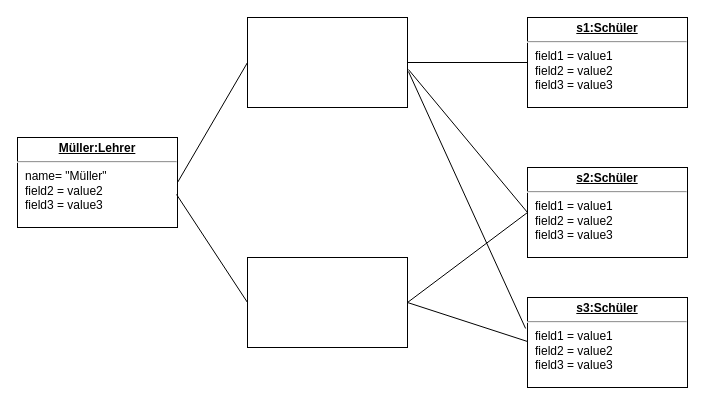
This 705x405 diagram has some shape labels left out. The box of each missing label's shape, as (x1, y1, x2, y2) in pixels:
IT:Fach name= "Mathe" field2 = value2 field3 = value3: (246, 256, 408, 348)
Mathe:Fach name= "Mathe" field2 = value2 field3 = value3: (246, 16, 408, 108)
